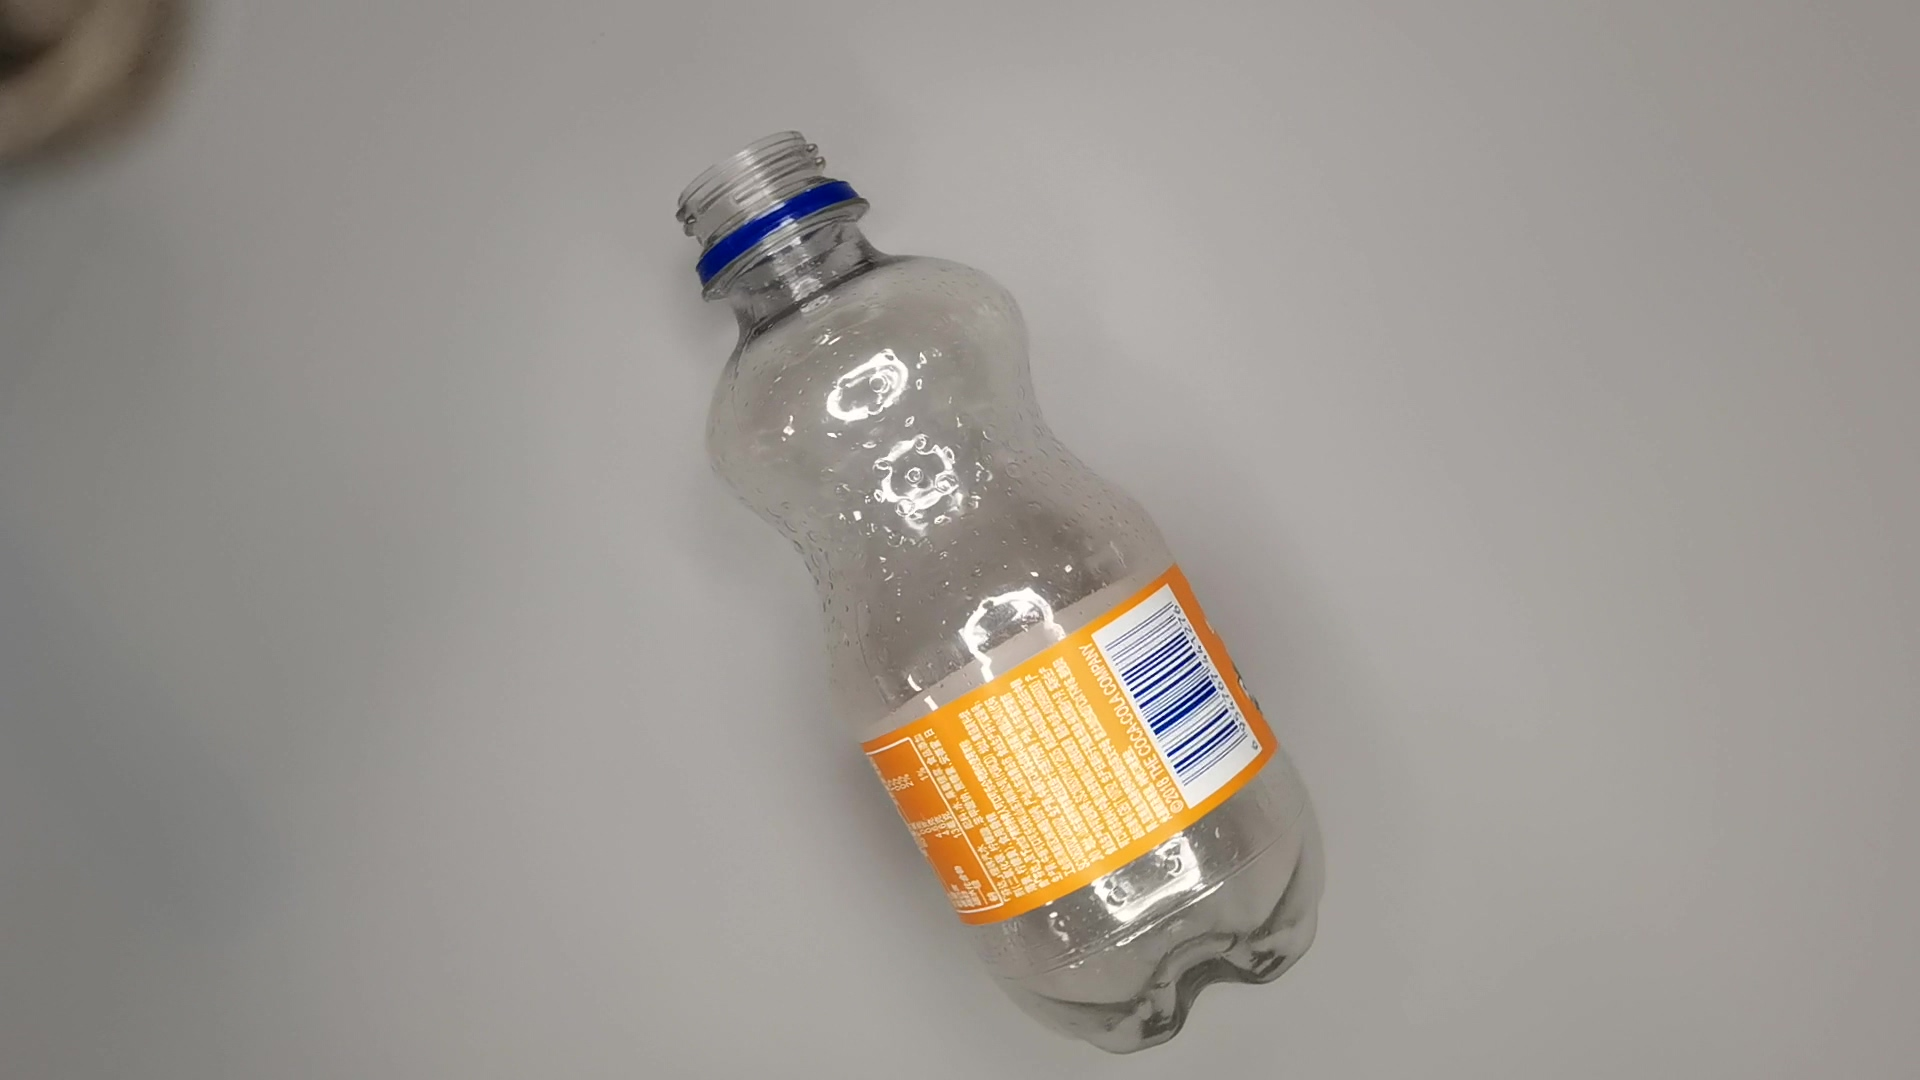bottle: (673, 124, 1338, 1062)
